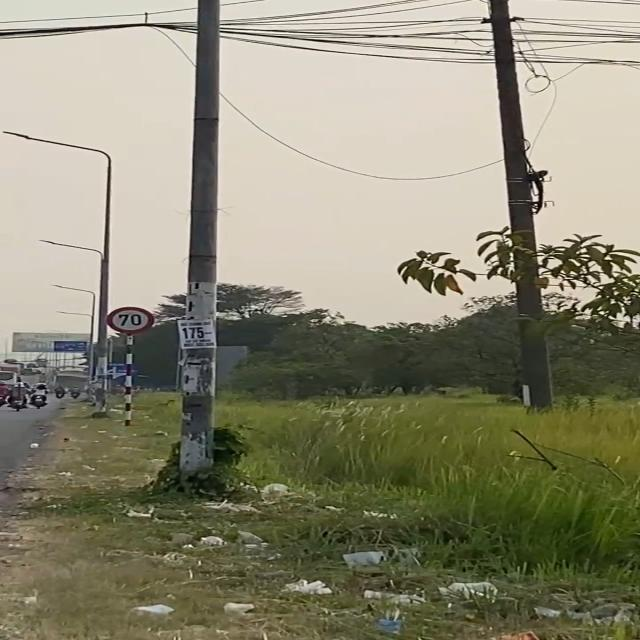127-toc-do-toi-da-70: (106, 306, 155, 334)
